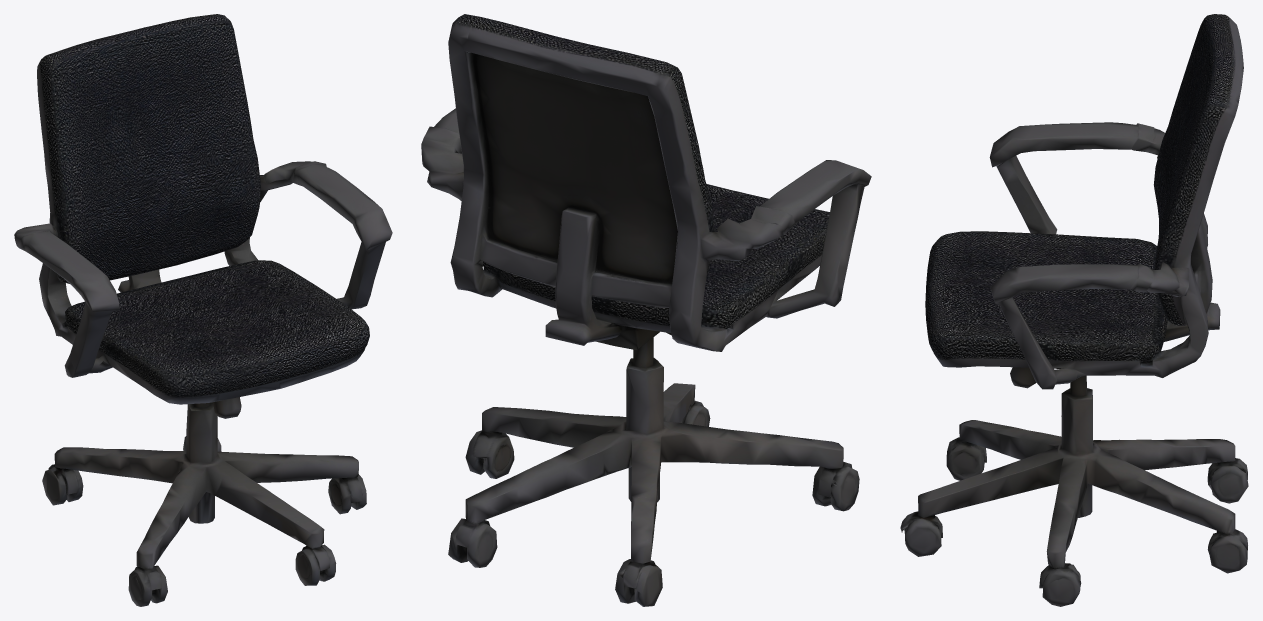
File: chair.glb
3 views of the same model, side by side, from view 1: azimuth 30°, elevation 25°; view 2: azimuth 150°, elevation 25°; view 3: azimuth 270°, elevation 25° (orthographic). The views are drawn at different scales.
Visible parts, largest first — view 1: tripo_node_67532738-f57f-4c3f-bcd7-33614300d841; view 2: tripo_node_67532738-f57f-4c3f-bcd7-33614300d841; view 3: tripo_node_67532738-f57f-4c3f-bcd7-33614300d841.
Boxes of the visible parts, box(x1,y1,x2,y2) form: tripo_node_67532738-f57f-4c3f-bcd7-33614300d841: box(14, 14, 392, 606); tripo_node_67532738-f57f-4c3f-bcd7-33614300d841: box(421, 14, 871, 606); tripo_node_67532738-f57f-4c3f-bcd7-33614300d841: box(900, 14, 1248, 606).
Size of the model in its own units: 0.6993 by 1 by 0.6598.
1 material, 1 textured.
